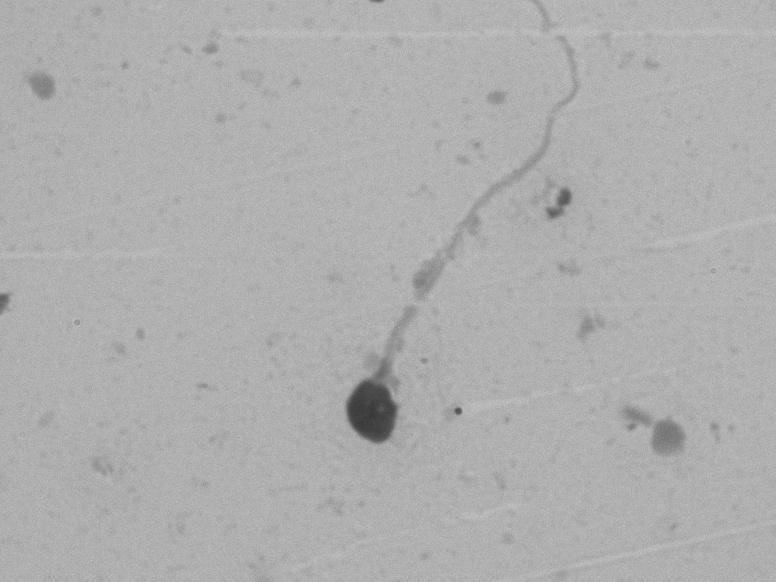Abnormal: (314, 15, 611, 466)
